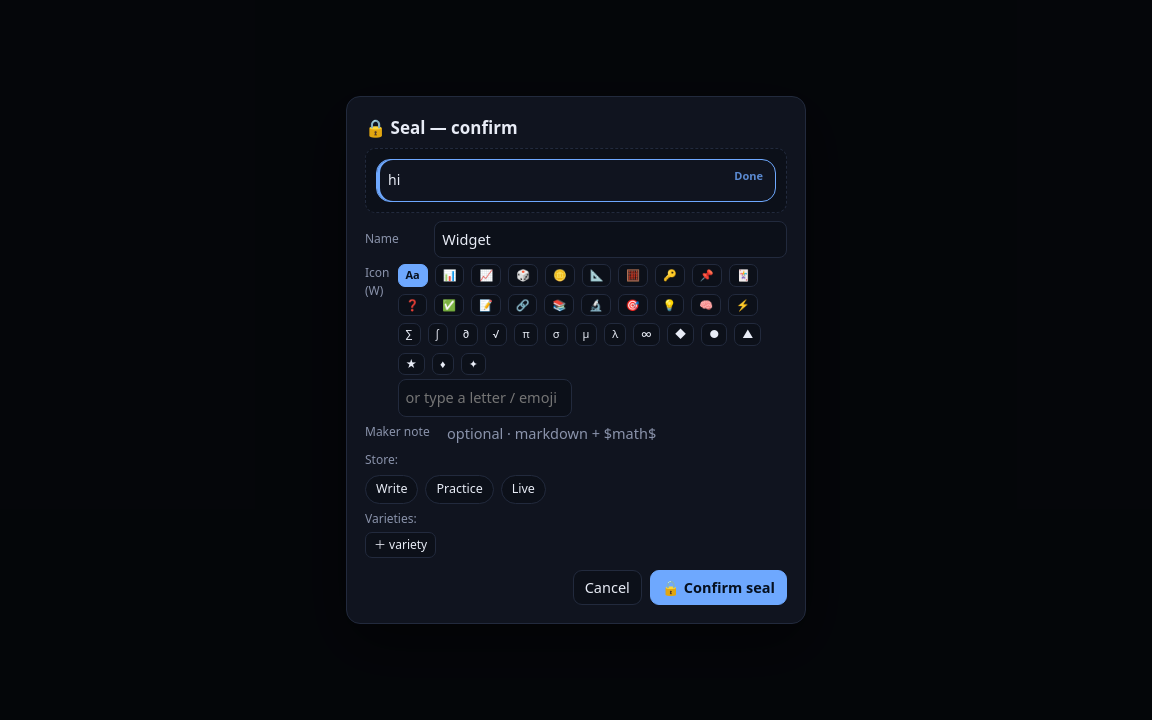
Test: SealModal › a name colliding with a taken name shows an inline error, no confirm
Click the button "🔒 Confirm seal".
click(718, 587)  # box 650,570 -> 787,605
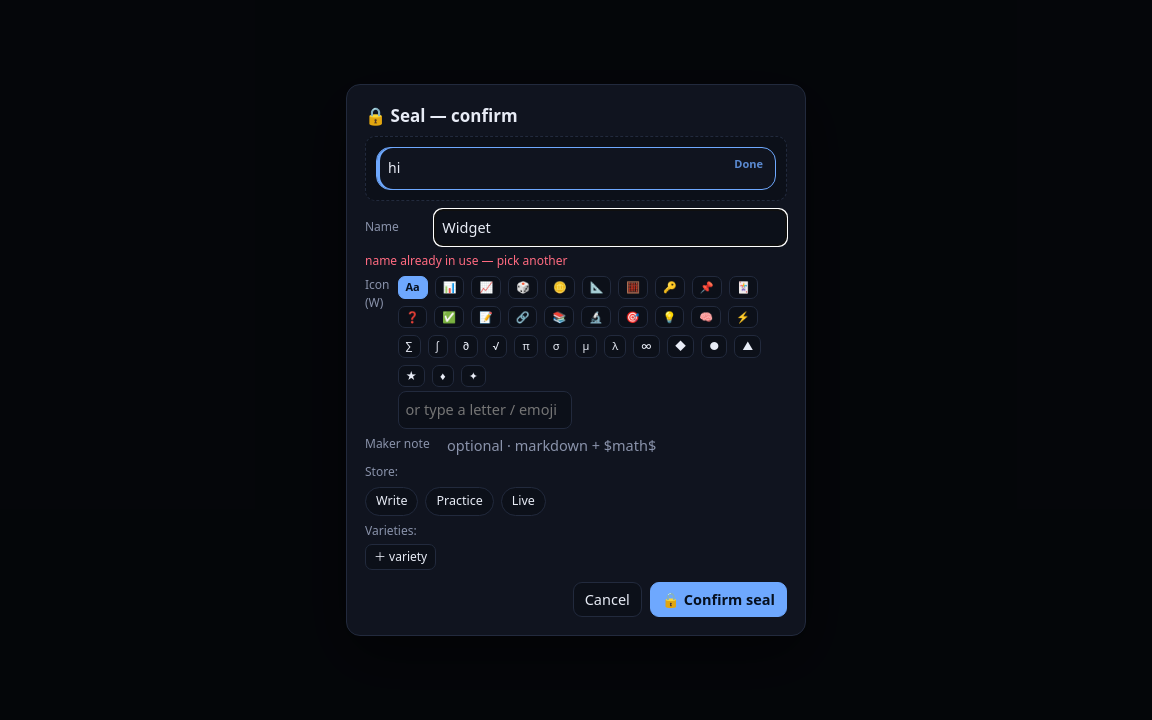
Now the text "name already in use — pick another" is shown, box 365,252 -> 567,269
